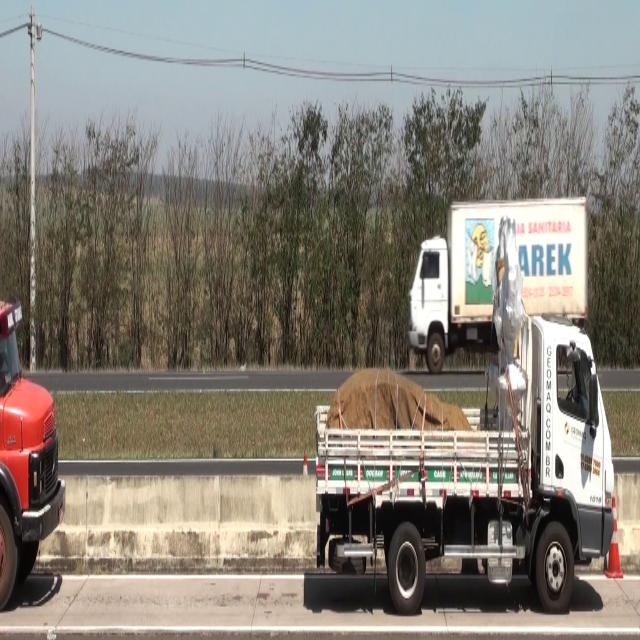-axle: (536, 521, 574, 615), (390, 521, 424, 609)
